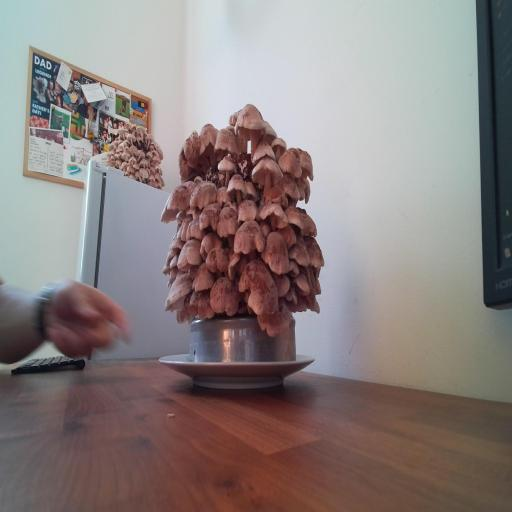Shiitake Mushroom: (224, 248, 296, 332), (223, 92, 279, 158), (239, 145, 294, 203), (154, 264, 202, 322), (176, 128, 215, 187), (257, 225, 297, 280), (230, 213, 270, 266), (166, 146, 211, 193), (250, 301, 300, 342), (207, 270, 245, 322), (180, 174, 226, 215), (212, 197, 245, 249), (186, 258, 221, 304), (219, 167, 256, 209), (269, 215, 305, 254), (274, 166, 308, 207), (300, 226, 328, 275), (153, 193, 186, 233), (191, 226, 229, 260), (163, 179, 201, 212), (284, 236, 314, 277), (173, 235, 204, 274), (203, 243, 233, 283), (277, 200, 313, 233), (213, 150, 242, 187), (197, 120, 219, 167), (258, 201, 290, 231), (277, 144, 304, 179), (296, 140, 317, 185), (264, 130, 293, 162), (247, 137, 279, 165), (188, 288, 215, 321), (158, 238, 184, 267), (302, 264, 318, 306), (236, 195, 259, 224), (199, 201, 221, 231), (296, 207, 318, 237), (293, 269, 313, 301), (175, 289, 192, 326), (175, 210, 193, 244), (215, 127, 238, 153), (241, 175, 260, 206), (254, 216, 277, 241), (265, 183, 288, 206), (225, 249, 241, 282), (167, 231, 187, 257), (260, 119, 279, 146), (186, 219, 206, 240), (273, 273, 290, 296), (215, 183, 232, 206), (226, 104, 242, 128), (164, 263, 183, 283), (287, 294, 306, 312), (285, 284, 300, 305), (166, 253, 184, 270), (302, 177, 311, 203), (190, 172, 206, 186), (289, 259, 300, 277), (162, 263, 171, 277), (315, 278, 322, 296)
